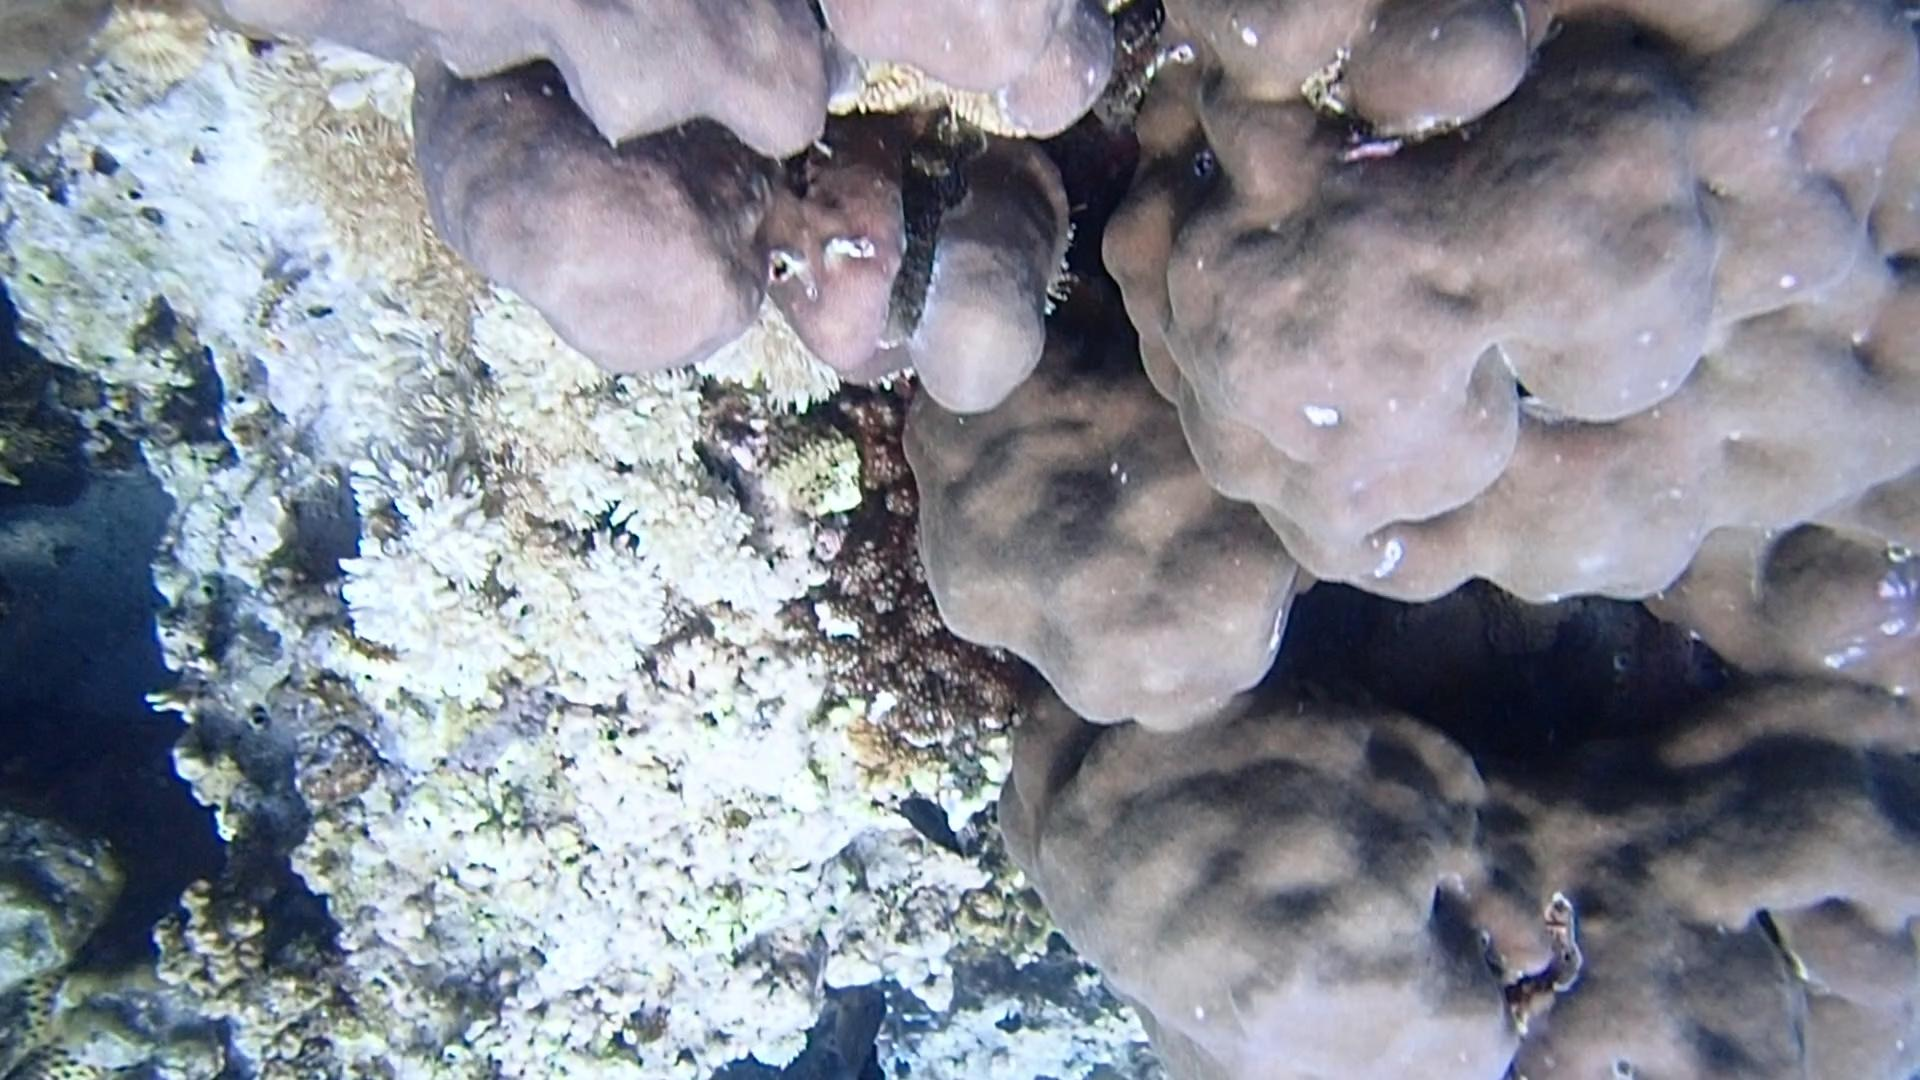Dark Fish: (822, 985, 903, 1080), (887, 781, 969, 869), (989, 1009, 1029, 1043)
